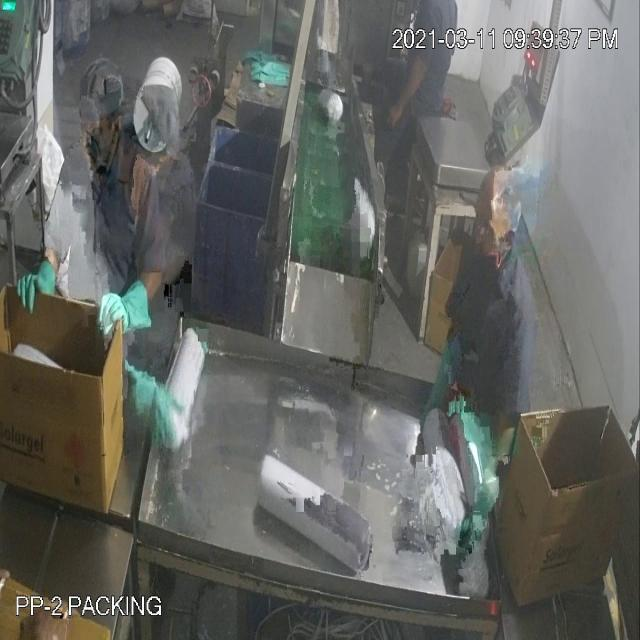No_Gloves: (380, 58, 433, 134)
